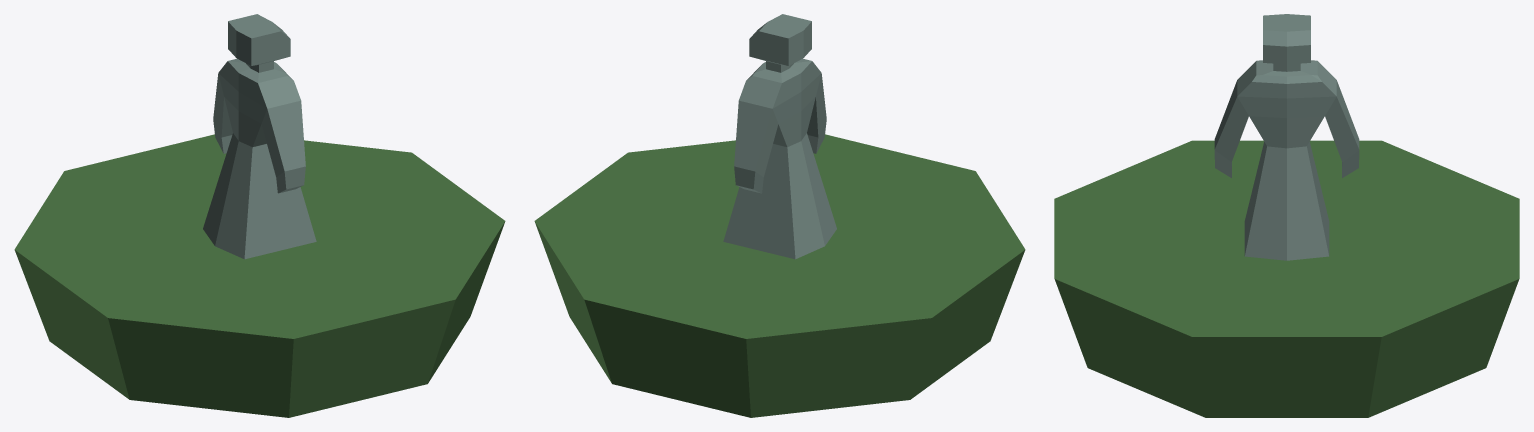
The model's file is minimal.glb.
The picture shows the model from 3 angles, left to right: view 1: azimuth 30°, elevation 25°; view 2: azimuth 150°, elevation 25°; view 3: azimuth 270°, elevation 25°; orthographic projection.
Visible parts, largest first — view 1: field, actor; view 2: field, actor; view 3: field, actor.
Boxes of the visible parts, x1,y1,x2,y2 form: field: [14, 134, 505, 417]; actor: [203, 14, 316, 259]; field: [534, 134, 1025, 417]; actor: [723, 14, 836, 259]; field: [1054, 140, 1519, 417]; actor: [1214, 14, 1359, 260].
Size of the model in its own units: 2 by 1.46 by 2.
